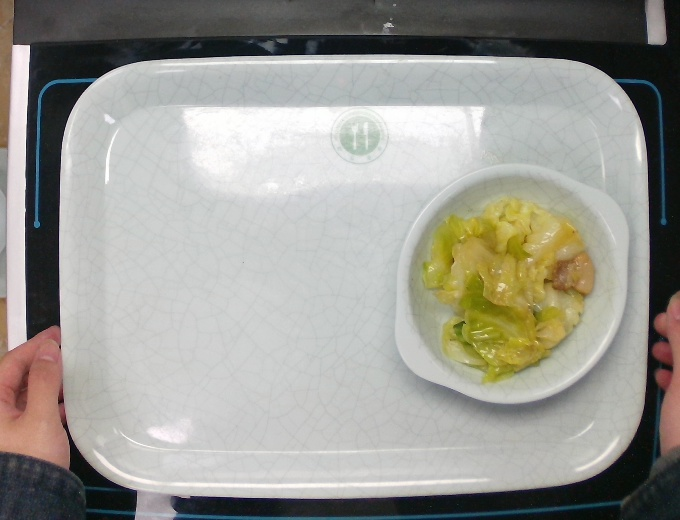JYsf-Shuang_Er_Wan: (387, 158, 631, 410)
